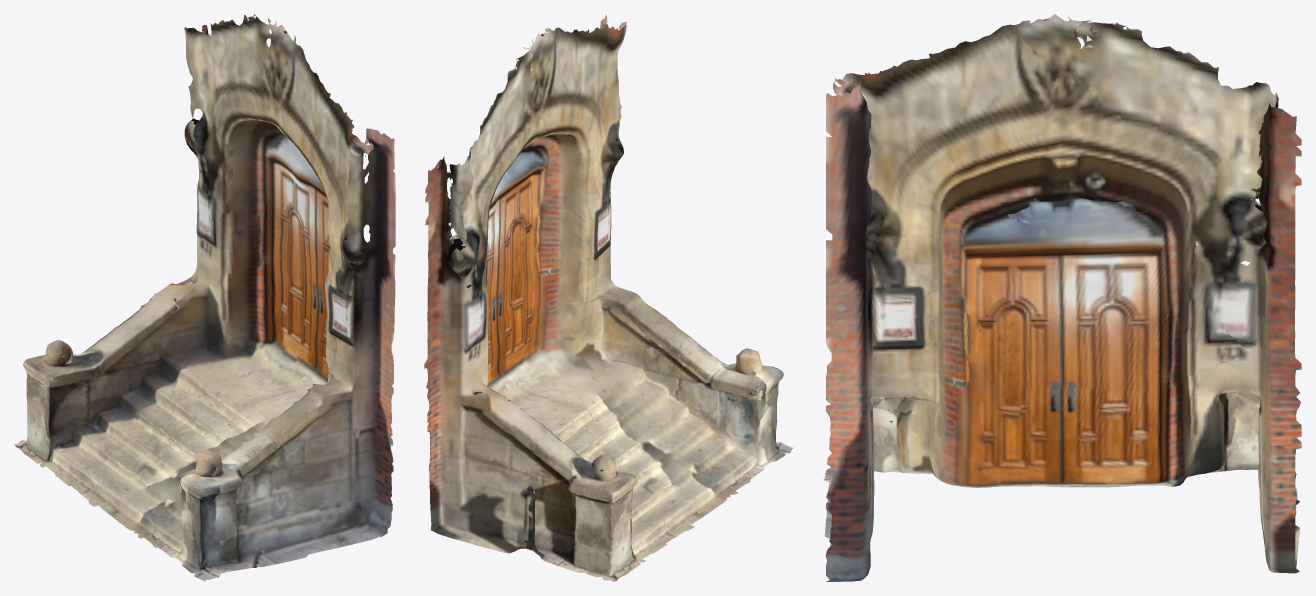
3 views of the same model, side by side, from view 1: azimuth 30°, elevation 25°; view 2: azimuth 150°, elevation 25°; view 3: azimuth 270°, elevation 25° (orthographic). The views are drawn at different scales.
Visible parts, largest first — view 1: Object_3; view 2: Object_3; view 3: Object_3.
Boxes of the visible parts, x1,y1,x2,y2 form: Object_3: [14, 14, 395, 581]; Object_3: [424, 14, 793, 581]; Object_3: [823, 14, 1301, 581].
Size of the model in its own units: 3.14 by 5.9 by 4.53.
Materials: 1 (1 with a texture image).
